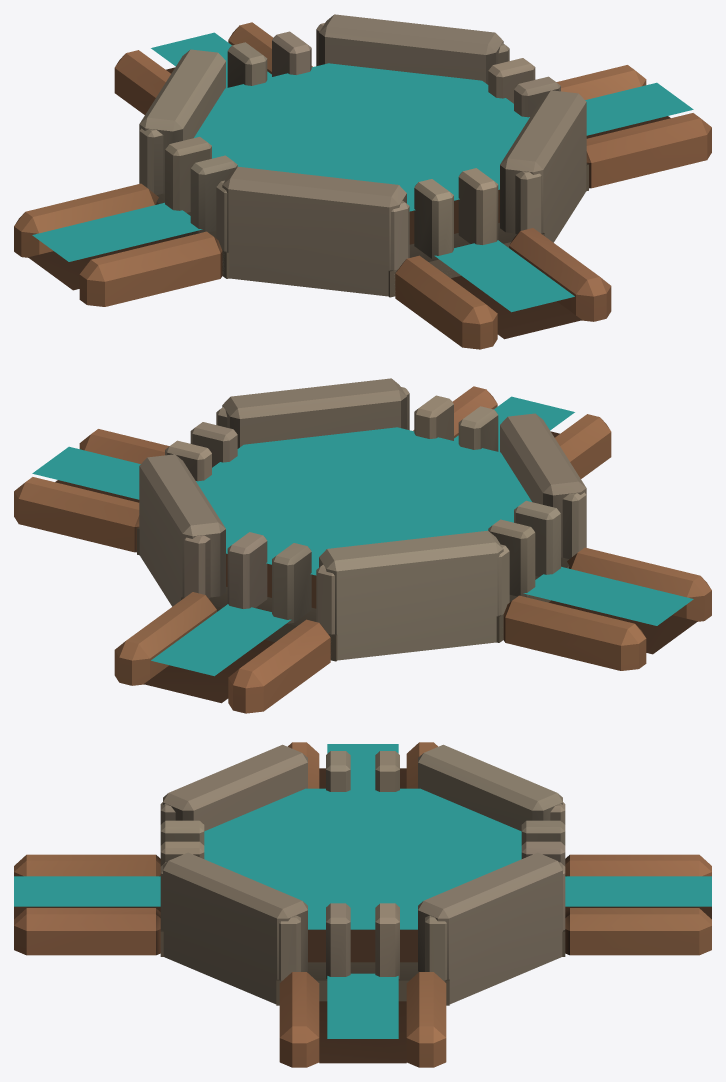
The model's file is repartiteur.glb.
3 renders of one model, top to bottom at view 1: azimuth 30°, elevation 25°; view 2: azimuth 150°, elevation 25°; view 3: azimuth 270°, elevation 25°, orthographic. The views are drawn at different scales.
Parts seen in each view (by area): view 1: repartiteur, eau; view 2: repartiteur, eau; view 3: repartiteur, eau.
Boxes of the visible parts, left/top/right/bottom form: repartiteur: left=14, top=14, right=711, bottom=349; eau: left=32, top=32, right=693, bottom=312; repartiteur: left=14, top=378, right=711, bottom=713; eau: left=32, top=396, right=693, bottom=676; repartiteur: left=14, top=742, right=711, bottom=1067; eau: left=14, top=744, right=711, bottom=1038.
Size of the model in its own units: 0.88 by 0.13 by 0.88.
